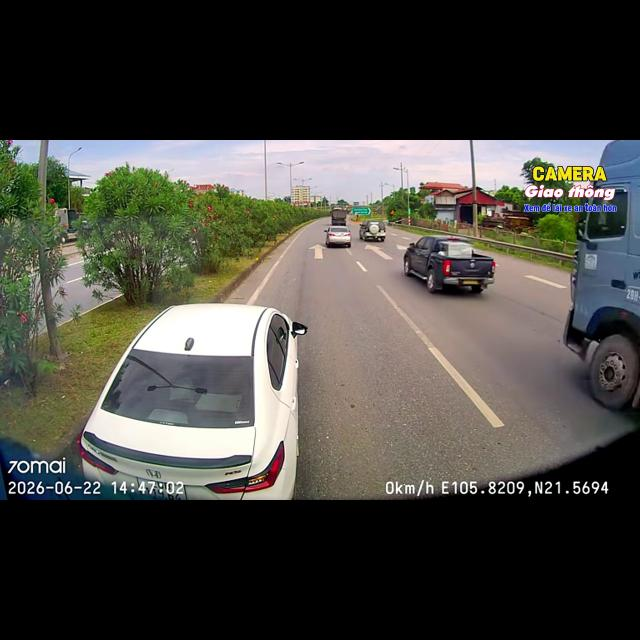car: (77, 304, 307, 499), (403, 236, 495, 293), (359, 220, 385, 241), (325, 226, 351, 247)
truck: (563, 140, 639, 410), (404, 236, 495, 293), (55, 208, 78, 243), (331, 207, 348, 225)
